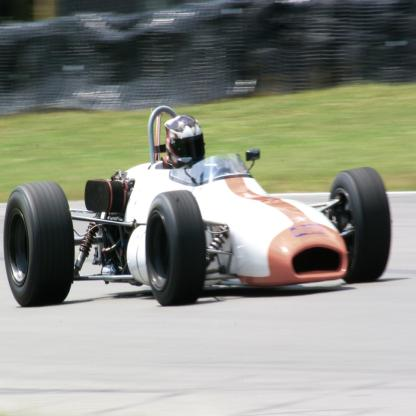Helmet: (166, 118, 212, 166)
